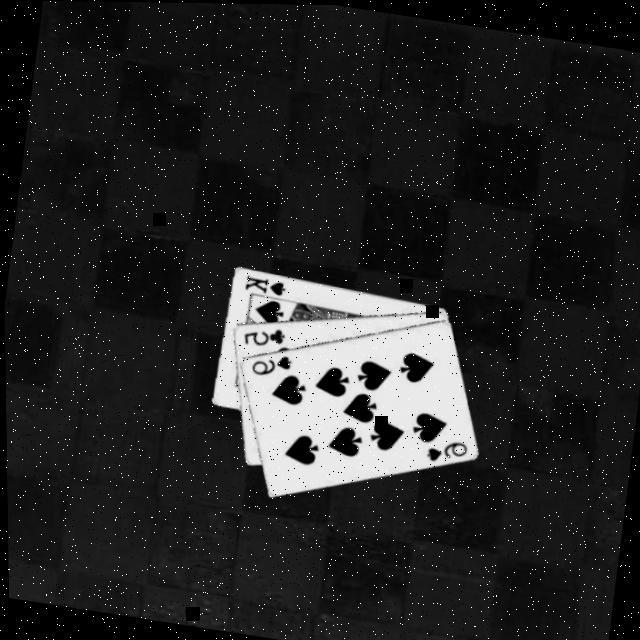5C: (239, 318, 289, 350)
9S: (422, 430, 470, 466), (247, 344, 294, 380)
KS: (241, 268, 289, 296)
